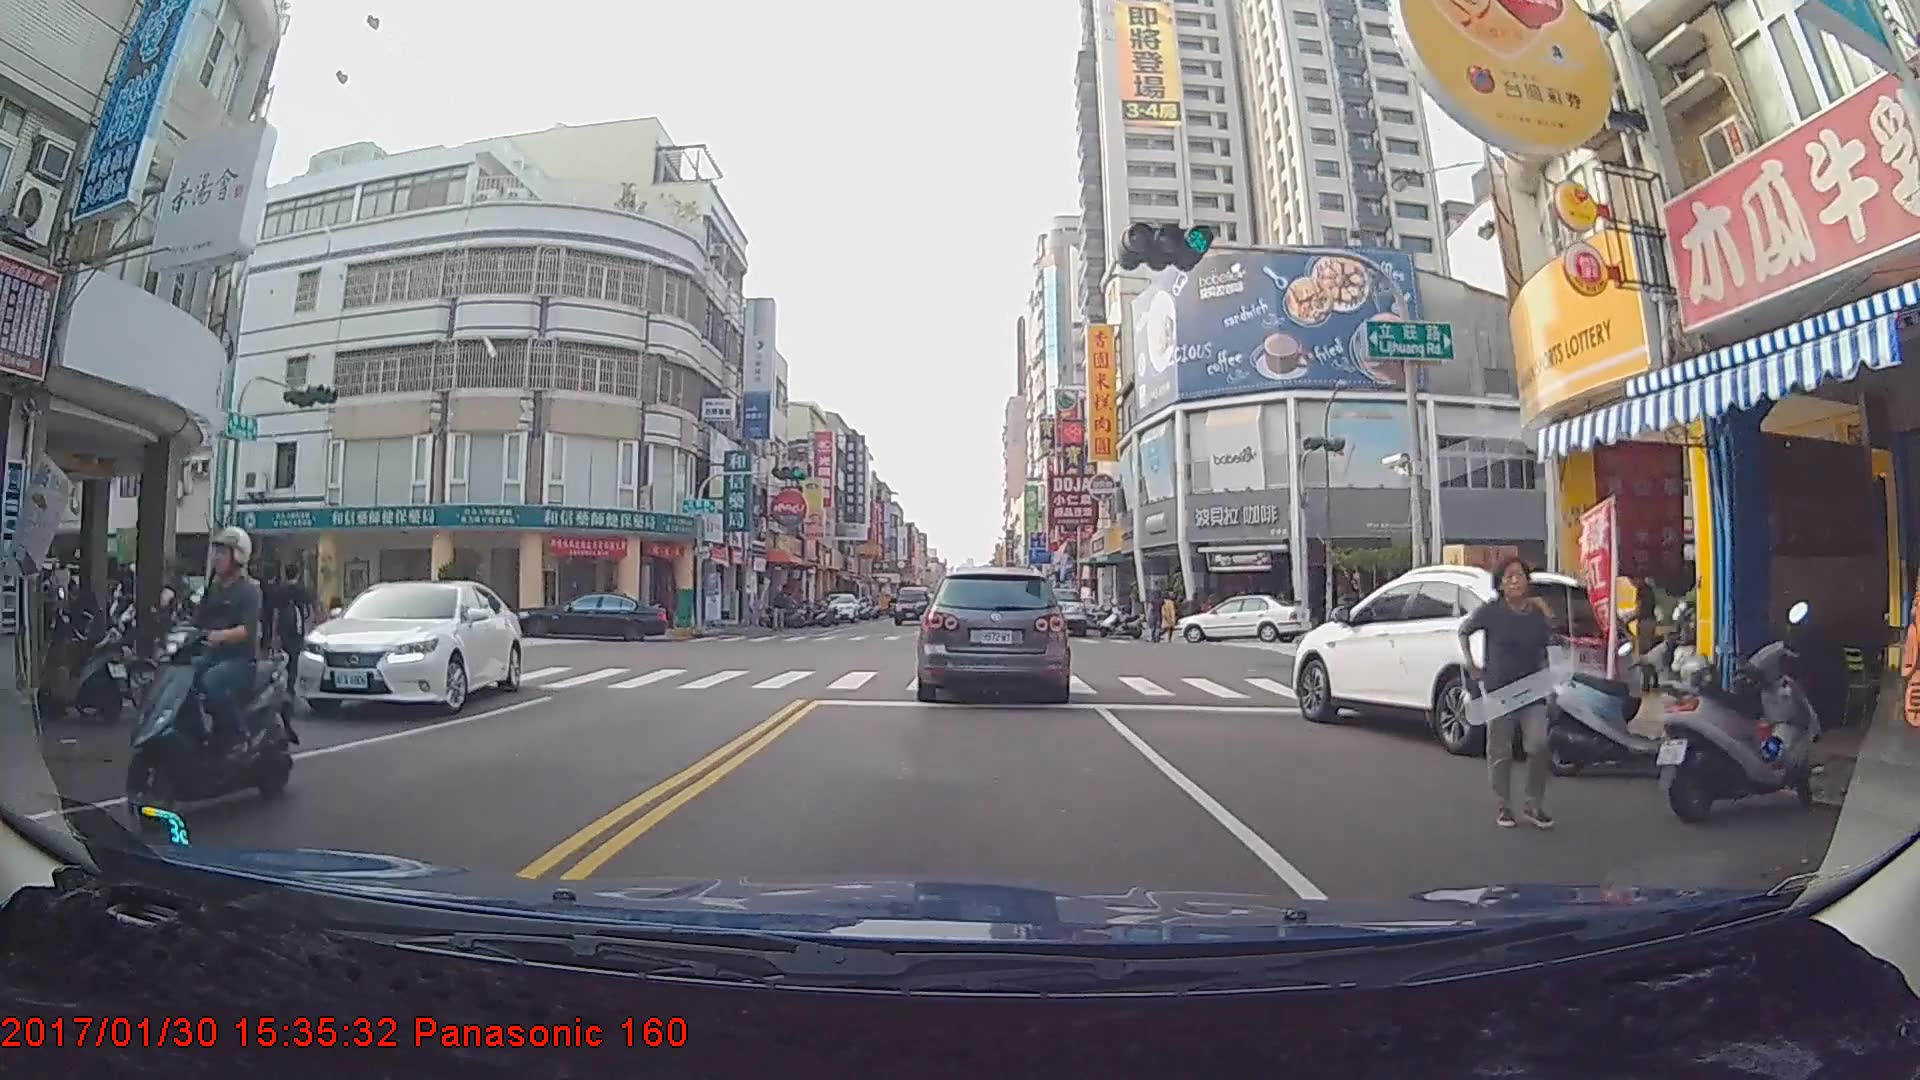pedestrian: (1463, 555, 1575, 834), (270, 560, 319, 696), (257, 565, 286, 692), (1159, 590, 1180, 644), (772, 586, 792, 632)
rider: (140, 517, 305, 817)
vehicle: (1289, 559, 1642, 753), (293, 577, 523, 716), (914, 567, 1069, 700), (516, 588, 669, 641), (1173, 592, 1312, 643), (1025, 584, 1086, 636), (891, 583, 931, 623), (817, 590, 860, 621)
